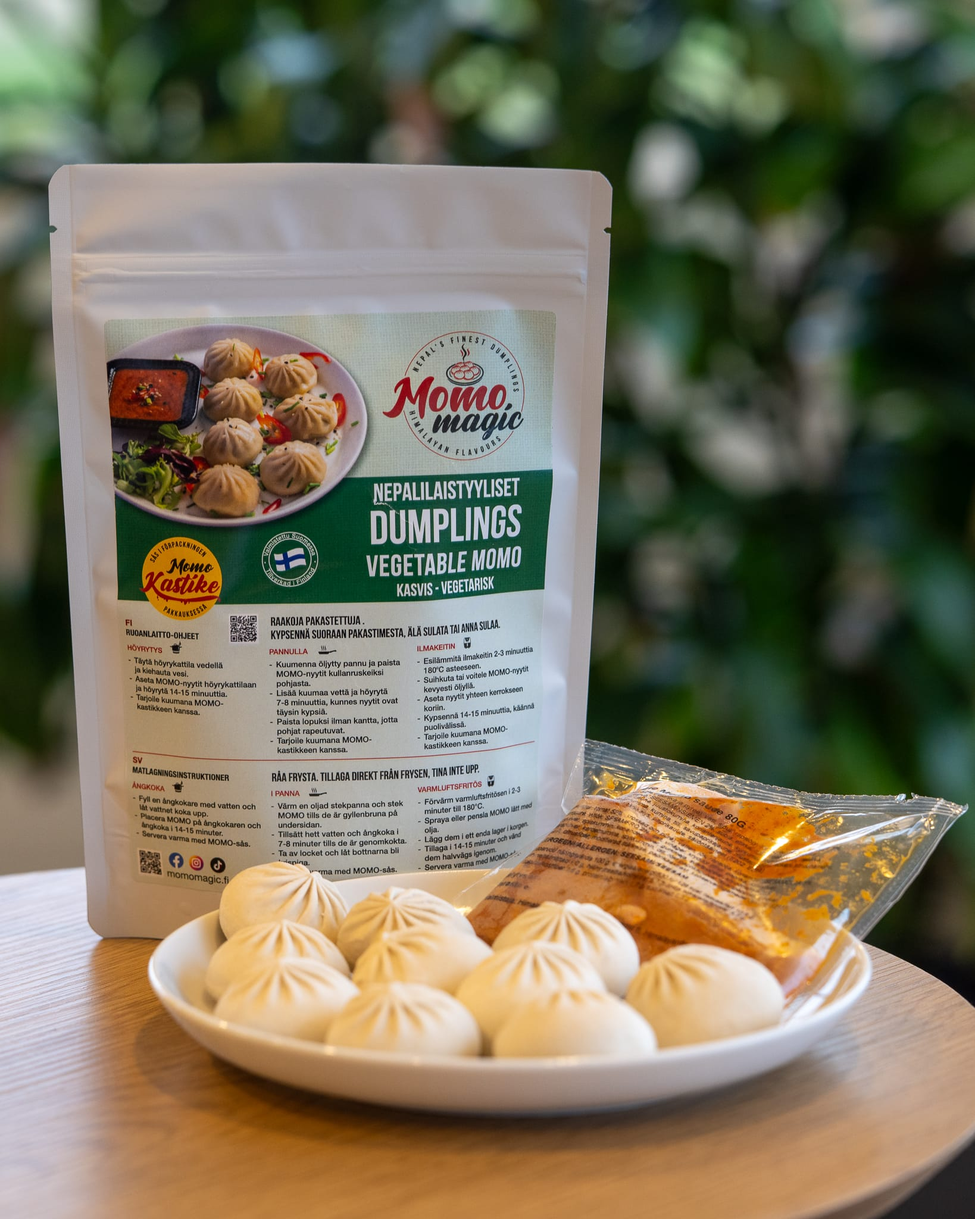momo: (641, 944, 790, 1044), (497, 891, 643, 985), (498, 989, 641, 1073), (466, 936, 601, 1024), (328, 981, 479, 1059), (221, 851, 341, 940), (227, 959, 355, 1041), (201, 917, 347, 988), (356, 923, 475, 990), (339, 886, 476, 943)
